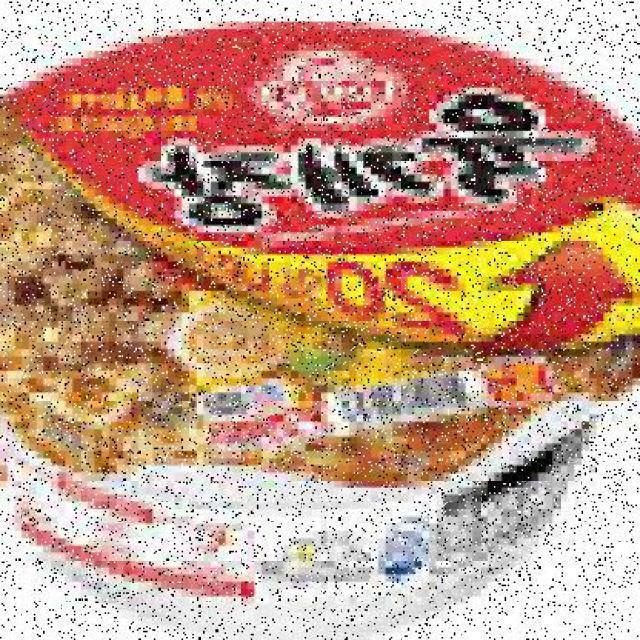Miscellaneous: (0, 29, 640, 626)
